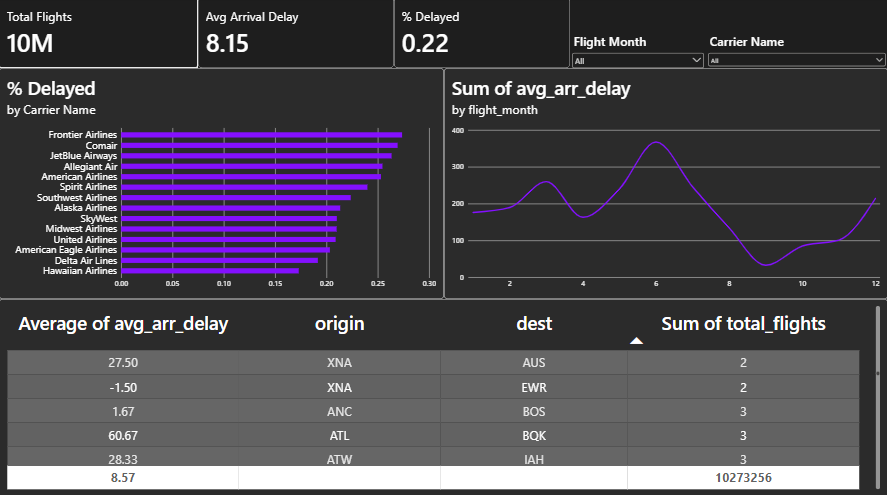

The page's visual inventory and layout, read from the dashboard file:
{"tool":"powerbi","page":{"name":"Page 1","canvas":[1920,1080],"ordinal":0},"visuals":[{"type":"cardVisual","fields":{"Data":["fct_flights.Avg Arrival Delay"]},"box":[429.8,0,423.4,153.4],"z":0},{"type":"cardVisual","title":"Total Flights","fields":{"Data":["fct_flights.Total Flights"]},"box":[0,0,429.8,153.4],"z":1000},{"type":"cardVisual","fields":{"Data":["fct_flights.% Delayed"]},"box":[853.2,0,380.2,153.4],"z":2000},{"type":"clusteredBarChart","title":"% Delayed","fields":{"Category":["dim_carriers.carrier_name"],"Y":["fct_flights.% Delayed"]},"box":[0,153.4,961.2,499],"z":3000},{"type":"lineChart","fields":{"Category":["agg_carrier_monthly_performance.flight_month"],"Y":["Sum(agg_carrier_monthly_performance.avg_arr_delay)"]},"box":[961.2,153.4,959,499],"z":4000},{"type":"tableEx","fields":{"Values":["Avg(agg_route_delay_trends.avg_arr_delay)","agg_route_delay_trends.origin","agg_route_delay_trends.dest","Sum(agg_route_delay_trends.total_flights)"]},"box":[0,652.3,1920.2,427.7],"z":5000},{"type":"slicer","fields":{"Values":["fct_flights.flight_month"]},"box":[1233.4,77.8,293.8,75.6],"z":5001},{"type":"slicer","fields":{"Values":["dim_carriers.carrier_name"]},"box":[1527.1,77.8,393.1,75.6],"z":5002}]}

Visuals, with their boxes in screenshot pixels (x1, y1, x2, y2), scaled from the page's 1920x1080 canvas onto the 887x495 screenshot:
cardVisual - fct_flights.Avg Arrival Delay: x1=199 y1=0 x2=394 y2=70
"Total Flights" cardVisual: x1=0 y1=0 x2=199 y2=70
cardVisual - fct_flights.% Delayed: x1=394 y1=0 x2=570 y2=70
"% Delayed" clusteredBarChart: x1=0 y1=70 x2=444 y2=299
lineChart - agg_carrier_monthly_performance.flight_month x Sum(agg_carrier_monthly_performance.avg_arr_delay): x1=444 y1=70 x2=886 y2=299
tableEx - Avg(agg_route_delay_trends.avg_arr_delay) x agg_route_delay_trends.origin: x1=0 y1=299 x2=886 y2=494
slicer - fct_flights.flight_month: x1=570 y1=36 x2=706 y2=70
slicer - dim_carriers.carrier_name: x1=705 y1=36 x2=886 y2=70
